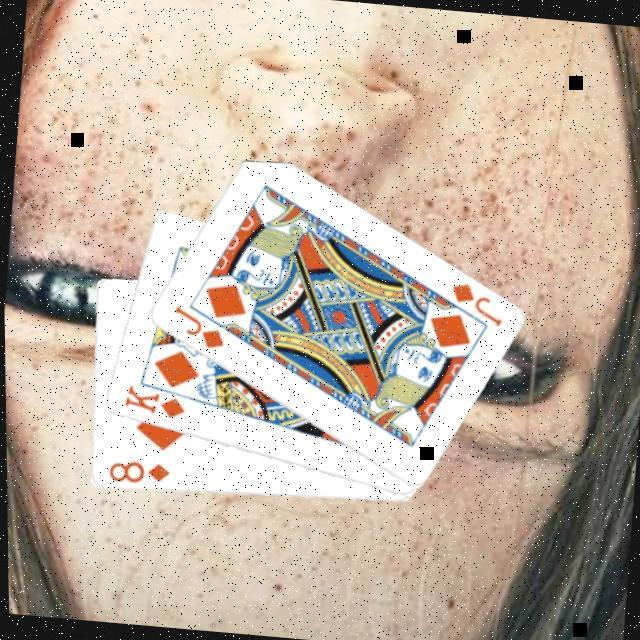8D: (104, 457, 174, 491)
JD: (167, 302, 230, 356), (444, 280, 509, 332)
KD: (118, 384, 189, 424)
